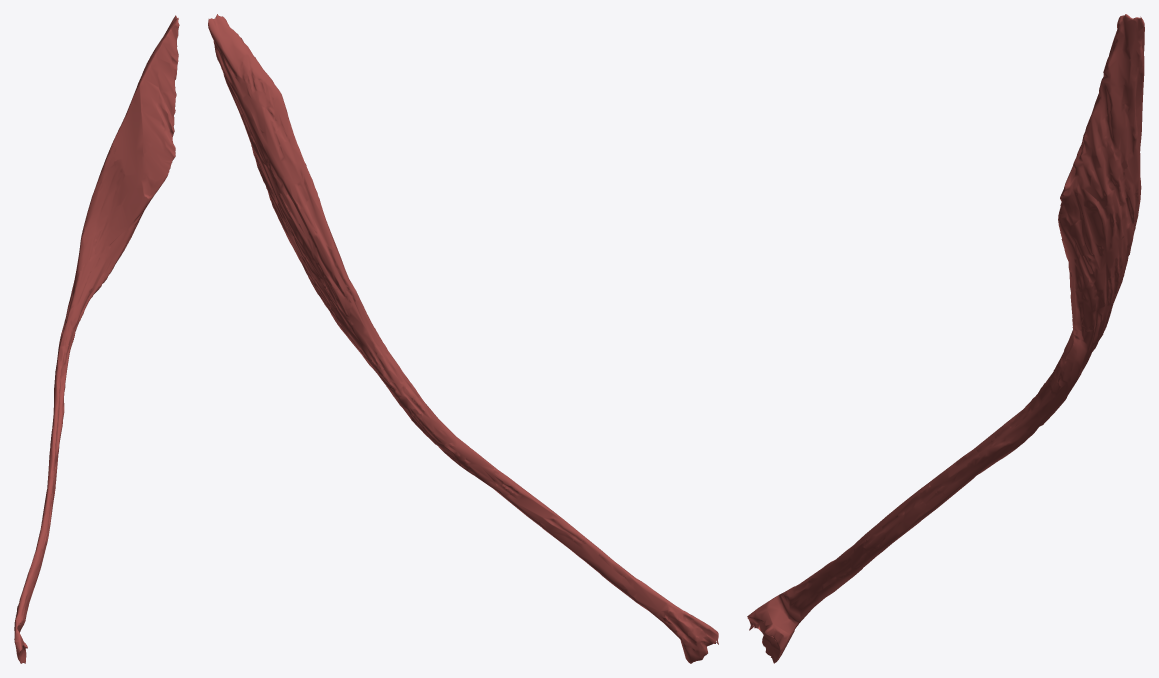
The model's file is FMA38519.glb.
3 renders of one model, left to right at view 1: azimuth 30°, elevation 25°; view 2: azimuth 150°, elevation 25°; view 3: azimuth 270°, elevation 25°, orthographic. The views are drawn at different scales.
Parts seen in each view (by area): view 1: FMA38519; view 2: FMA38519; view 3: FMA38519.
Boxes of the visible parts, left/top/right/bottom form: FMA38519: left=14, top=15, right=179, bottom=663; FMA38519: left=208, top=14, right=718, bottom=663; FMA38519: left=747, top=14, right=1144, bottom=663.
Size of the model in its own units: 0.0765 by 0.136 by 0.0569.
